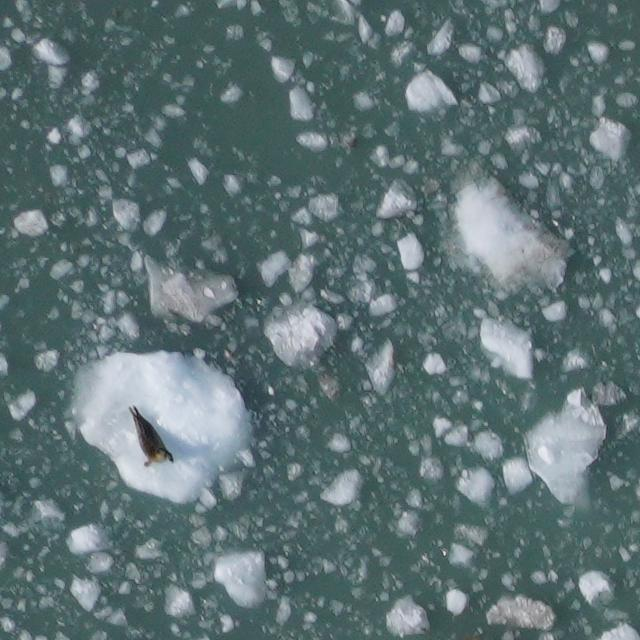seal: (127, 397, 175, 472)
